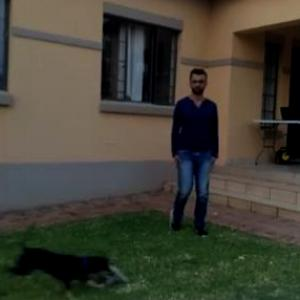follow: (167, 67, 221, 237)
